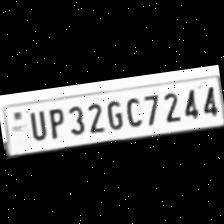2: (156, 88, 181, 124), (82, 99, 106, 134)
3: (63, 102, 86, 137)
4: (176, 84, 201, 120), (196, 82, 220, 117)
7: (138, 91, 162, 126)
C: (120, 92, 144, 128)
G: (102, 96, 125, 132)
P: (43, 104, 67, 140)
U: (22, 106, 48, 142)
